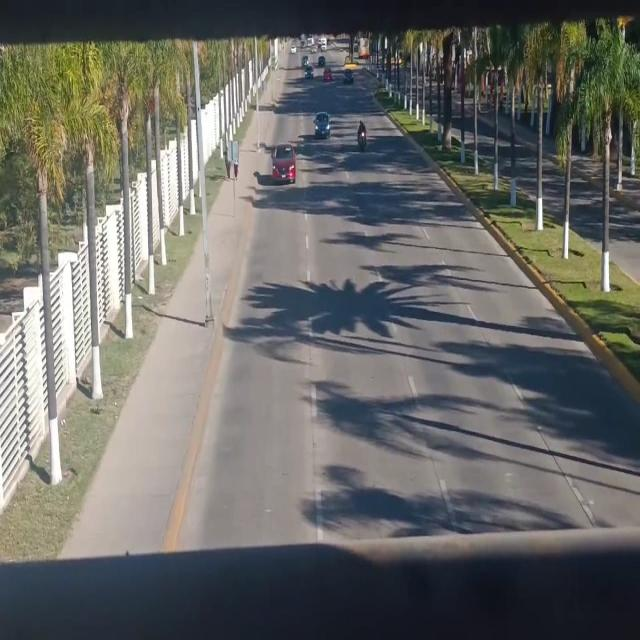Auto: (271, 144, 296, 188), (310, 115, 334, 137), (342, 62, 355, 86), (321, 66, 336, 84), (305, 66, 315, 80)
Peaton: (222, 146, 233, 185)
